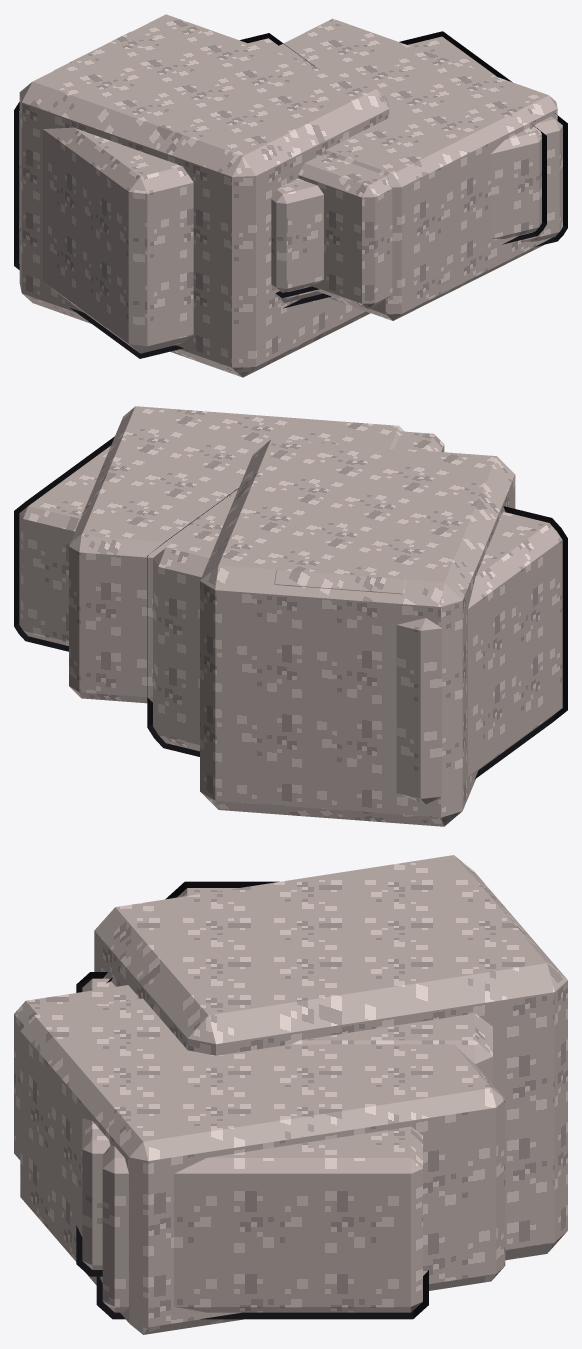
The model's file is env_blossom_rock.glb.
The picture shows the model from 3 angles, top to bottom: view 1: azimuth 30°, elevation 25°; view 2: azimuth 150°, elevation 25°; view 3: azimuth 270°, elevation 25°; orthographic projection. The views are drawn at different scales.
Parts seen in each view (by area): view 1: model; view 2: model; view 3: model.
Part boxes in pixels (x1,y1,x2,y2): model: (14, 14, 567, 377); model: (14, 406, 567, 826); model: (14, 855, 567, 1334).
Size of the model in its own units: 1.99 by 1 by 1.73.
2 materials, 1 textured.
